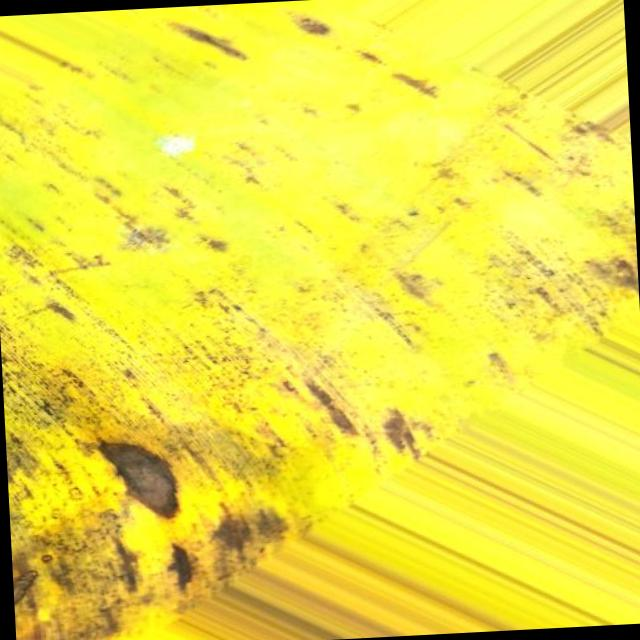Banana_Black_Sigatoka: (284, 125, 640, 440), (1, 319, 274, 618), (0, 48, 197, 326)
